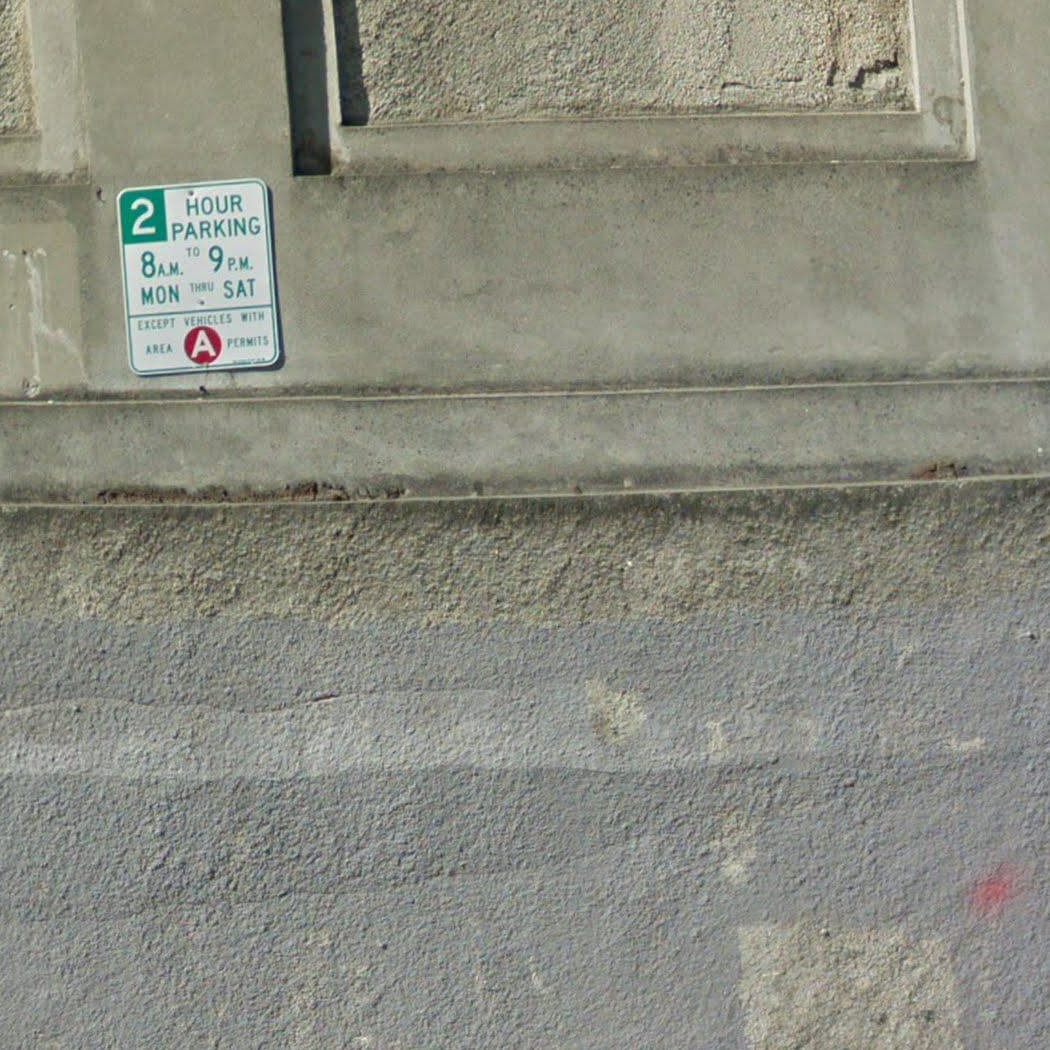2 Hour Parking: (113, 175, 285, 378)
